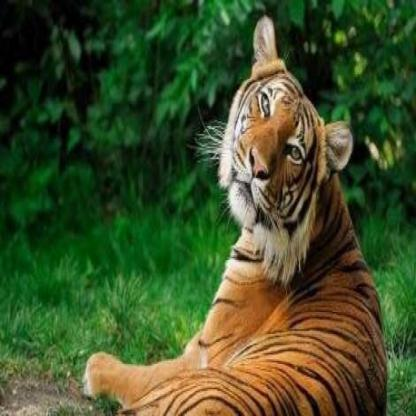Tiger: (82, 4, 398, 415)
